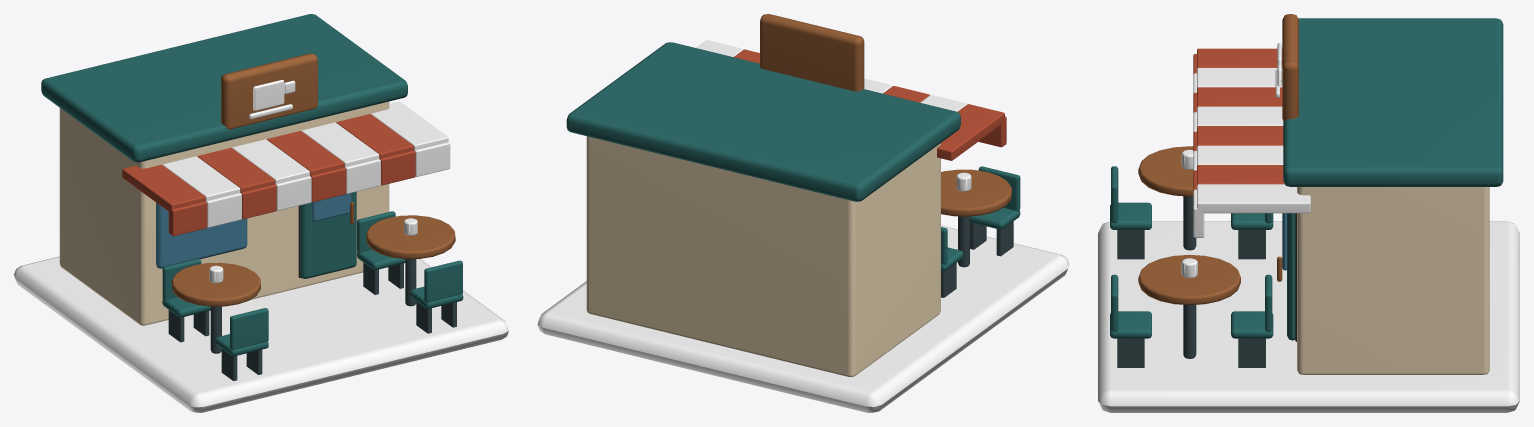
Rendered from cafe.glb.
3 renders of one model, left to right at view 1: azimuth 30°, elevation 25°; view 2: azimuth 150°, elevation 25°; view 3: azimuth 270°, elevation 25°, orthographic. The views are drawn at different scales.
Parts seen in each view (by area): view 1: Batch_Porcelain_, Batch_Teal door_, Cafe walls, Batch_Terracotta roof_, Batch_Honey wood_, Batch_Dark metal_, Cafe door, ShopWindow, Door glass; view 2: Cafe walls, Batch_Teal door_, Batch_Porcelain_, Batch_Honey wood_, Batch_Terracotta roof_, Batch_Dark metal_; view 3: Batch_Porcelain_, Batch_Teal door_, Cafe walls, Batch_Honey wood_, Batch_Terracotta roof_, Batch_Dark metal_, Cafe door.
Boxes of the visible parts, box(x1,y1,x2,y2) form: Batch_Porcelain_: box(14, 80, 508, 412); Batch_Teal door_: box(41, 14, 463, 356); Cafe walls: box(59, 101, 389, 325); Batch_Terracotta roof_: box(122, 114, 415, 236); Batch_Honey wood_: box(171, 53, 455, 306); Batch_Dark metal_: box(168, 259, 456, 380); Cafe door: box(300, 192, 356, 278); ShopWindow: box(156, 202, 247, 268); Door glass: box(312, 193, 351, 221); Cafe walls: box(586, 136, 940, 377); Batch_Teal door_: box(566, 42, 1020, 271); Batch_Porcelain_: box(537, 40, 1069, 412); Batch_Honey wood_: box(760, 14, 1011, 216); Batch_Terracotta roof_: box(733, 49, 1006, 160); Batch_Dark metal_: box(941, 216, 1013, 297); Batch_Porcelain_: box(1098, 43, 1519, 412); Batch_Teal door_: box(1110, 18, 1503, 338); Cafe walls: box(1297, 187, 1489, 374); Batch_Honey wood_: box(1138, 14, 1298, 305); Batch_Terracotta roof_: box(1193, 48, 1284, 190); Batch_Dark metal_: box(1117, 196, 1265, 367); Cafe door: box(1287, 213, 1295, 340).
Bounding box in the file's own units: 2.3 × 1.75 × 2.3.
